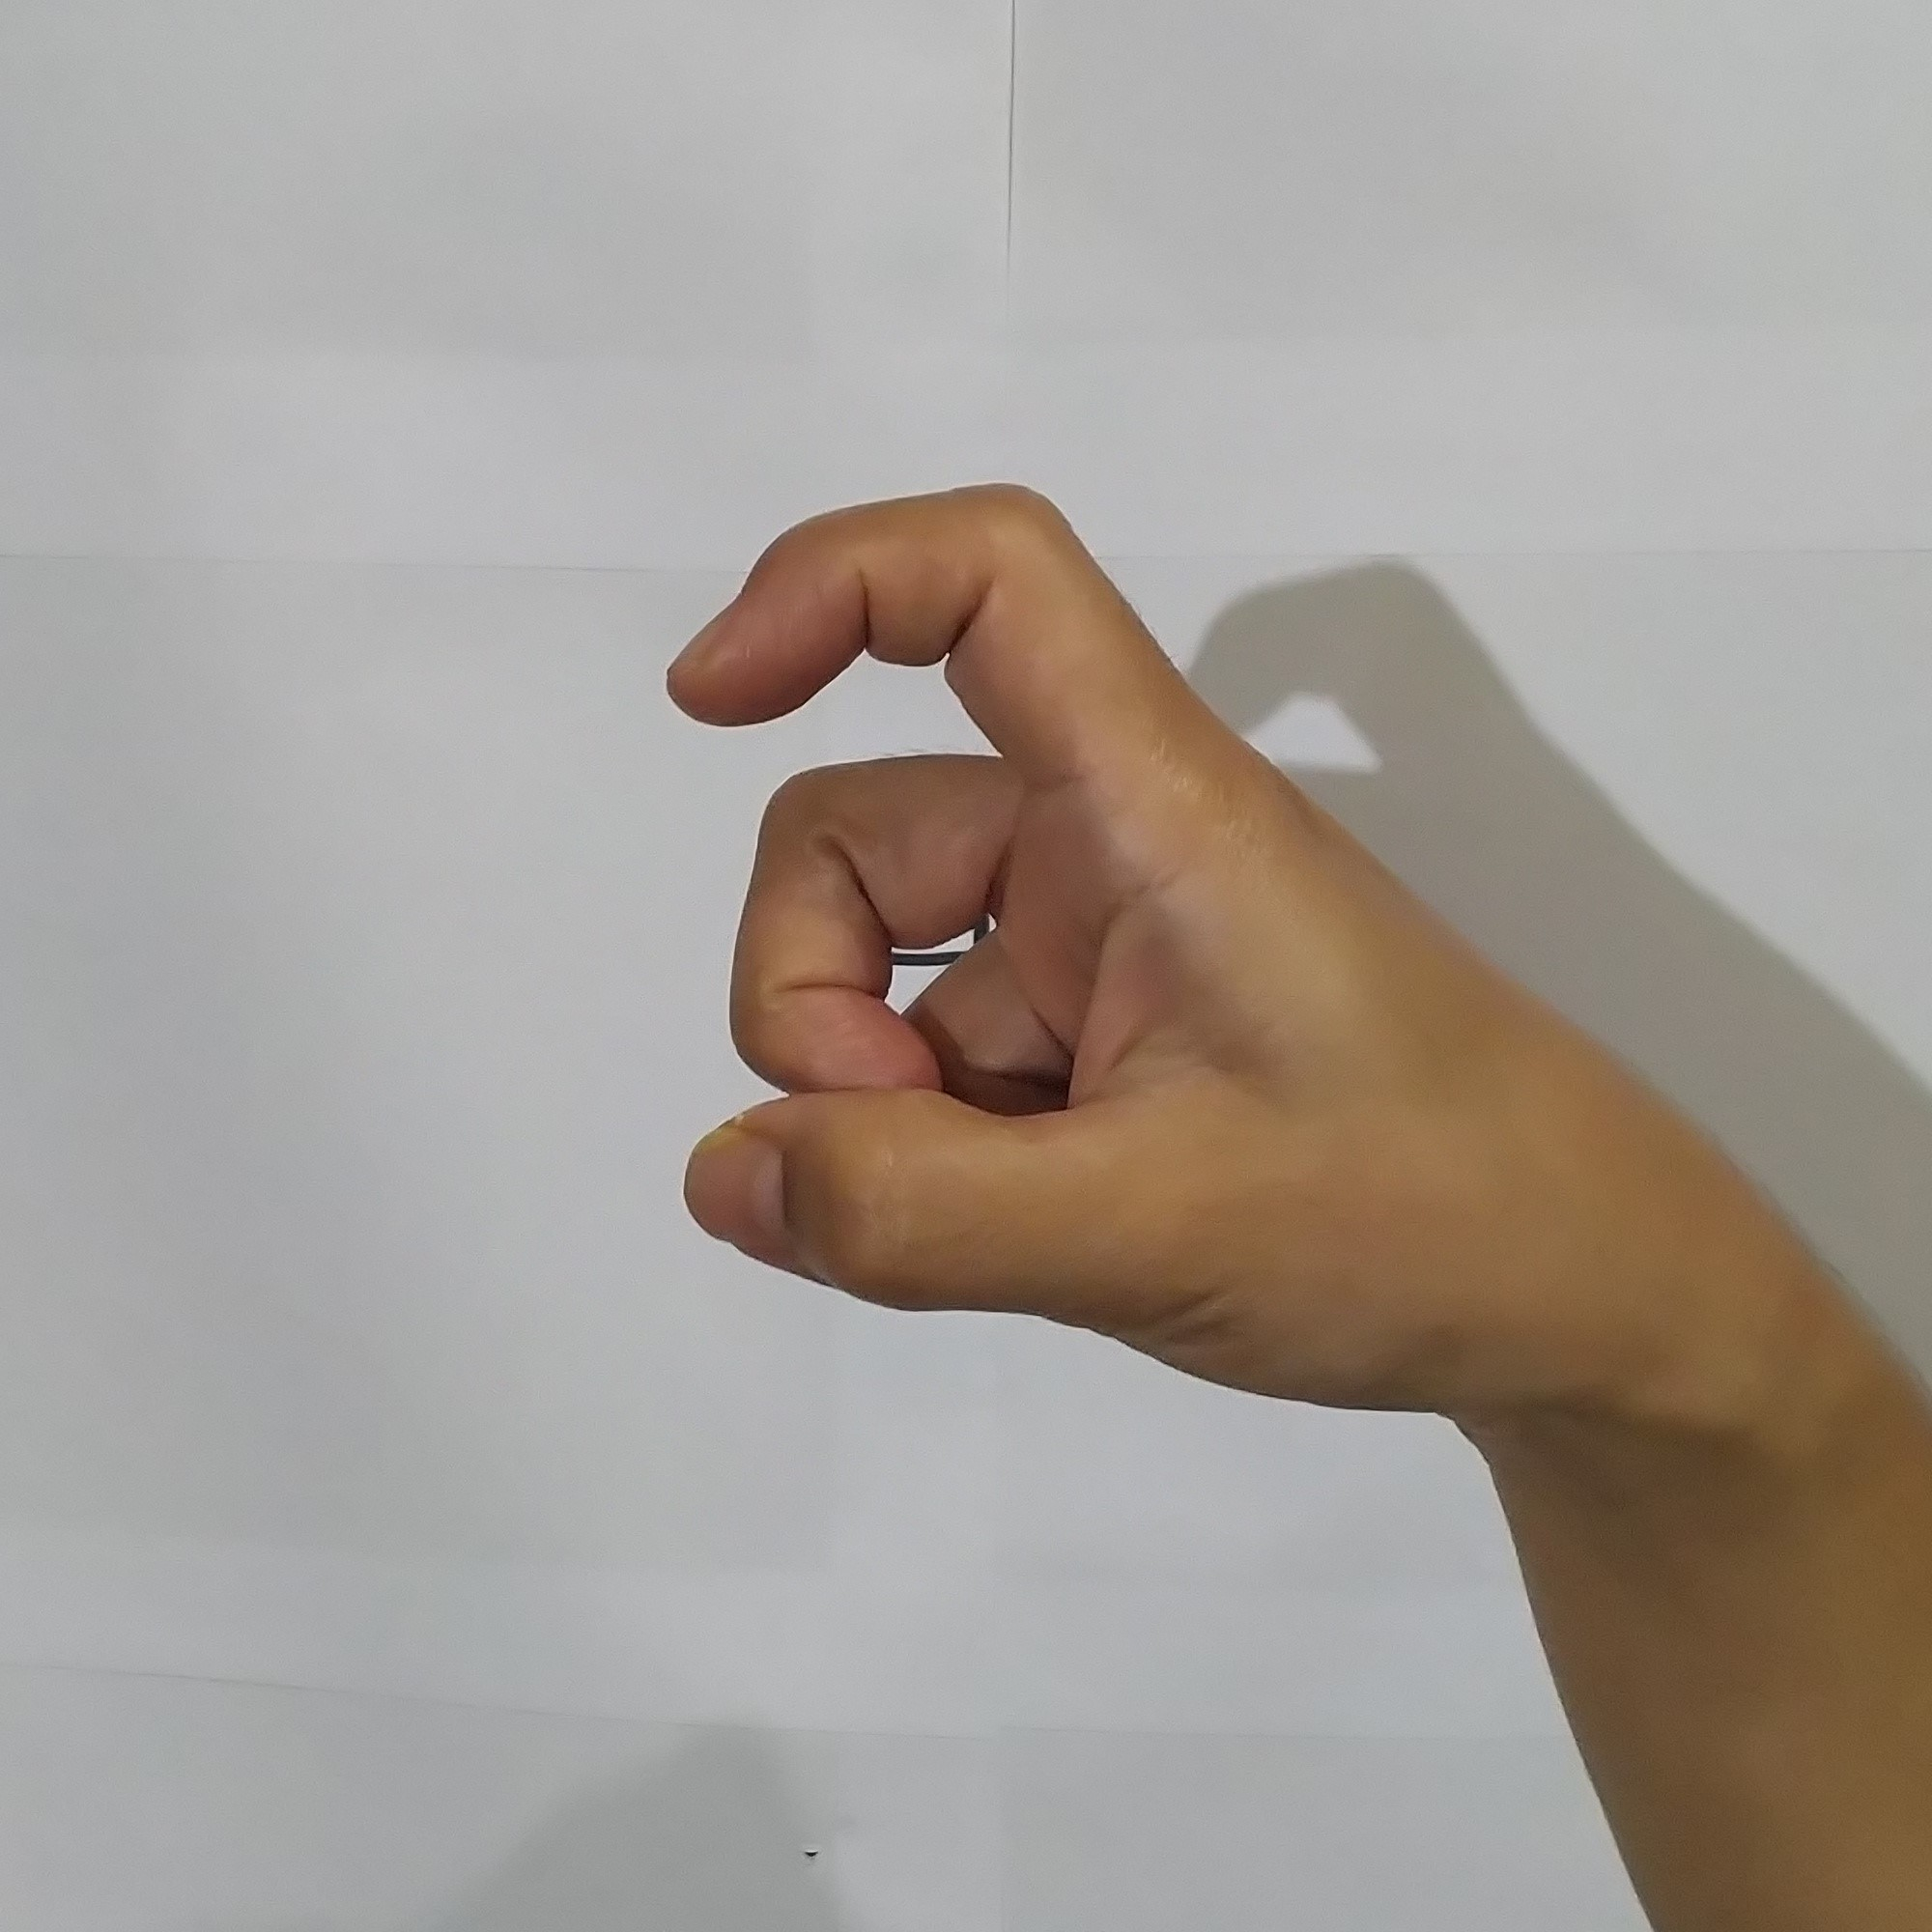X: (626, 455, 1727, 1426)
